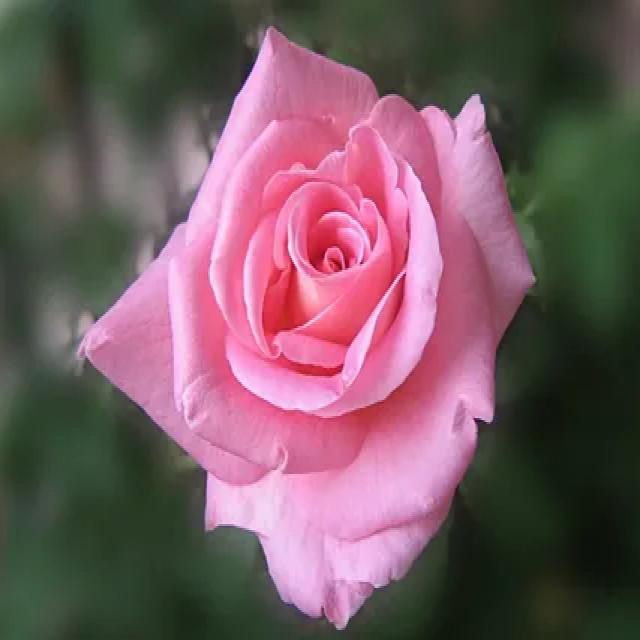rose: (74, 20, 548, 616)
